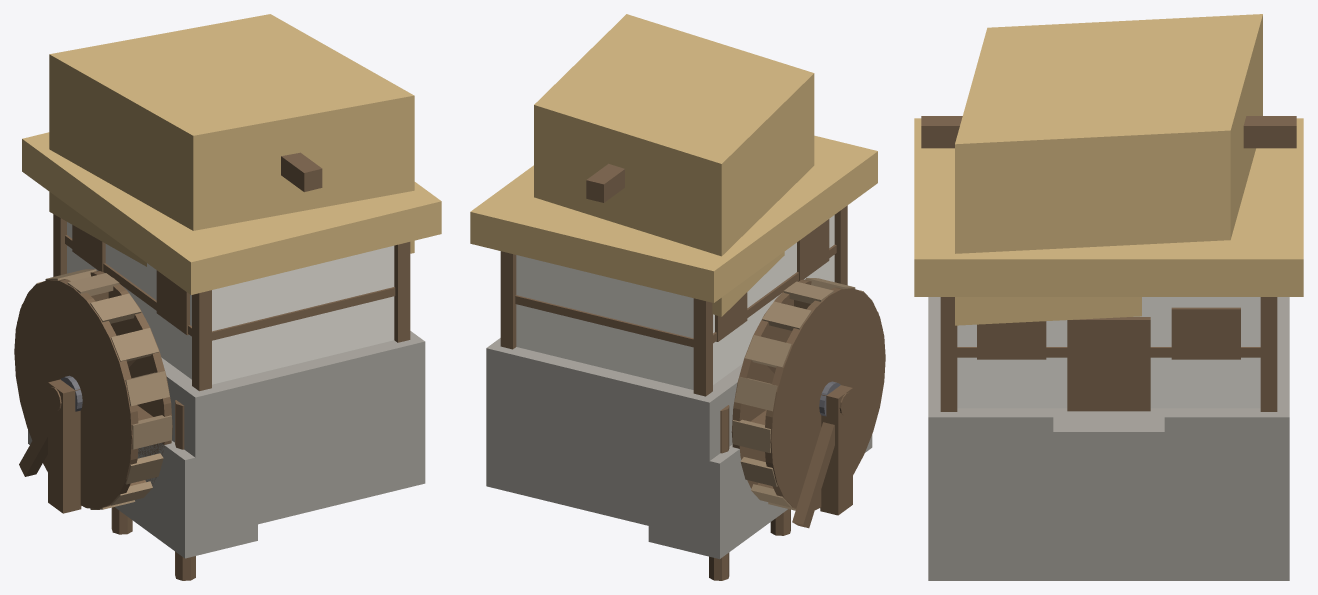
File: watermill_01.glb
3 renders of one model, left to right at view 1: azimuth 30°, elevation 25°; view 2: azimuth 150°, elevation 25°; view 3: azimuth 270°, elevation 25°, orthographic. The views are drawn at different scales.
Visible parts, largest first — view 1: Cylinder.003, Cube, Cube.014, Cube.002, Cylinder.007, Cube.001, Cube.041, Cube.008, Cylinder.009, Cube.003, Cube.005, Cube.012 (+11 smaller); view 2: Cylinder.003, Cube, Cube.014, Cube.002, Cylinder.007, Cube.001, Cube.041, Cube.008, Cylinder.009, Cube.042, Cube.004, Cube.006 (+11 smaller); view 3: Cylinder.003, Cube, Cube.014, Cube.002, Cube.010, Cube.011, Cube.013, Cube.015, Cube.012, Cube.006, Cube.005, Cube.008.
Part boxes in pixels (x1,y1,x2,y2): Cylinder.003: [49, 14, 414, 266]; Cube: [161, 331, 425, 535]; Cube.014: [22, 132, 441, 294]; Cube.002: [67, 222, 394, 384]; Cylinder.007: [14, 279, 138, 509]; Cube.001: [28, 430, 257, 558]; Cube.041: [48, 379, 81, 513]; Cube.008: [65, 235, 395, 340]; Cylinder.009: [90, 271, 172, 485]; Cube.003: [192, 290, 211, 391]; Cube.005: [394, 242, 410, 342]; Cube.012: [156, 270, 189, 335]; Cylinder.003: [534, 14, 814, 316]; Cube: [486, 338, 742, 537]; Cube.014: [470, 135, 877, 302]; Cube.002: [516, 215, 834, 389]; Cylinder.007: [765, 287, 885, 510]; Cube.001: [648, 434, 872, 559]; Cube.041: [820, 385, 852, 515]; Cube.008: [515, 244, 836, 347]; Cylinder.009: [731, 279, 811, 488]; Cube.042: [792, 422, 834, 528]; Cube.004: [693, 298, 712, 396]; Cube.006: [500, 251, 516, 349]; Cylinder.003: [955, 14, 1262, 325]; Cube: [928, 297, 1289, 580]; Cube.014: [914, 118, 1303, 296]; Cube.002: [957, 297, 1260, 408]; Cube.010: [1067, 317, 1150, 411]; Cube.011: [1053, 409, 1164, 463]; Cube.013: [1171, 307, 1240, 359]; Cube.015: [921, 116, 1296, 148]; Cube.012: [977, 321, 1046, 359]; Cube.006: [1260, 297, 1277, 411]; Cube.005: [940, 297, 957, 411]; Cube.008: [957, 347, 1260, 357].
Bounding box in the file's own units: 6.1 × 7.84 × 5.6.
